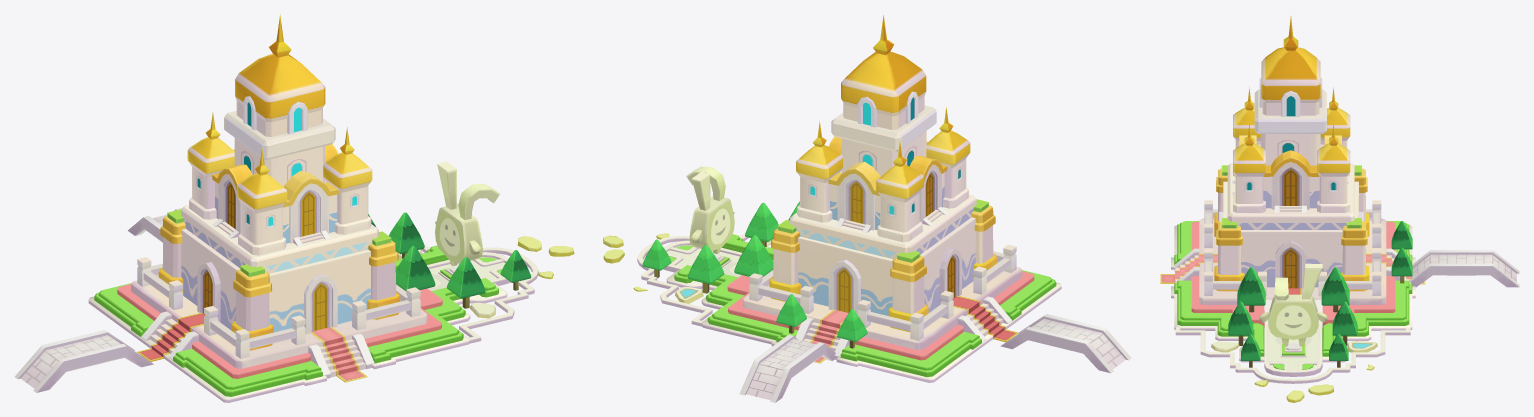
Rendered from task_building_6.gltf.
The picture shows the model from 3 angles, left to right: view 1: azimuth 30°, elevation 25°; view 2: azimuth 150°, elevation 25°; view 3: azimuth 270°, elevation 25°; orthographic projection. The views are drawn at different scales.
Parts seen in each view (by area): view 1: task_building_6; view 2: task_building_6; view 3: task_building_6.
Part boxes in pixels (x1=…): task_building_6: x1=14, y1=14, x2=574, y2=402; task_building_6: x1=603, y1=15, x2=1131, y2=402; task_building_6: x1=1160, y1=15, x2=1519, y2=402.
Size of the model in its own units: 16.42 by 8.88 by 10.89.
2 materials, 2 textured.
